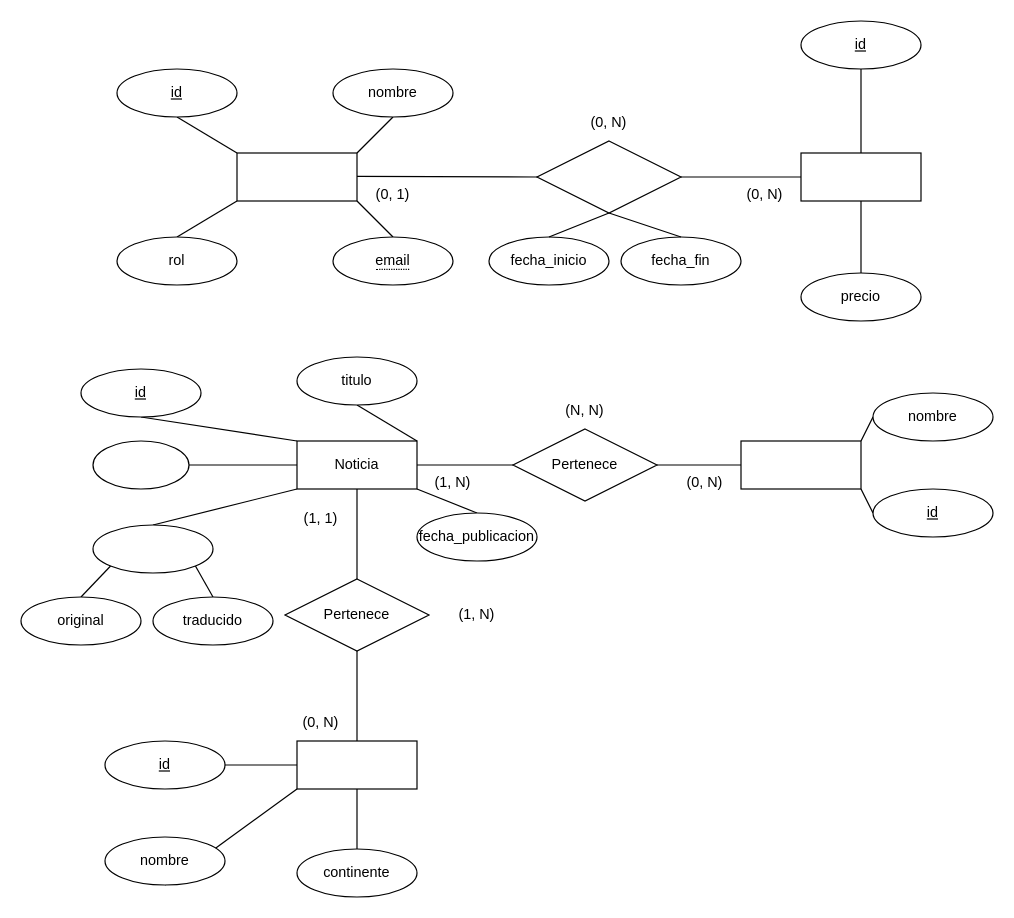
Some shapes in this 1014 by 918 pixel diagram are drawn without their labels. Here are the shapes that lost their labels. From the top down, the centre of each, then its label:
At (296,176): "Usuario".
At (608,176): "Compra".
At (860,176): "Suscripcion".
At (140,464): "url".
At (800,464): "Categoria".
At (152,548): "texto".
At (356,764): "País".
